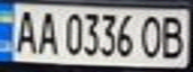0: (60, 9, 84, 56)
3: (81, 10, 103, 57), (100, 10, 118, 58)
6: (115, 11, 139, 58)
A: (9, 7, 39, 54), (33, 8, 60, 56)
B: (157, 12, 190, 61)
O: (136, 12, 166, 60)
